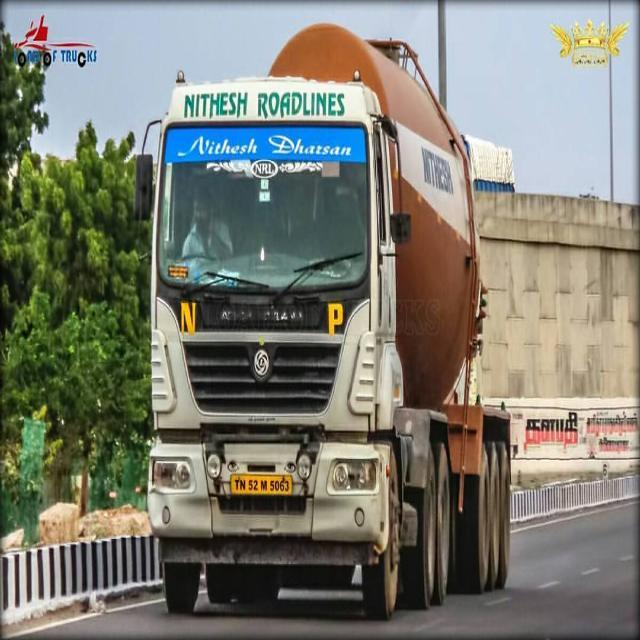Truck: (131, 21, 516, 622)
